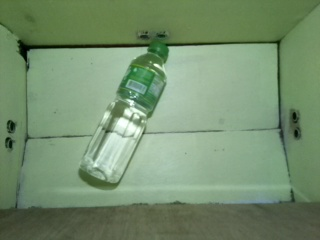bottle: (79, 39, 170, 185)
